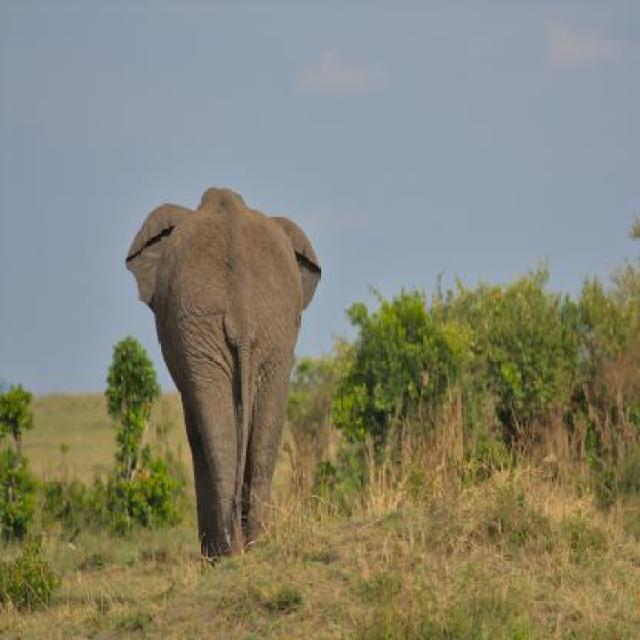Elephant: (119, 164, 336, 578)
